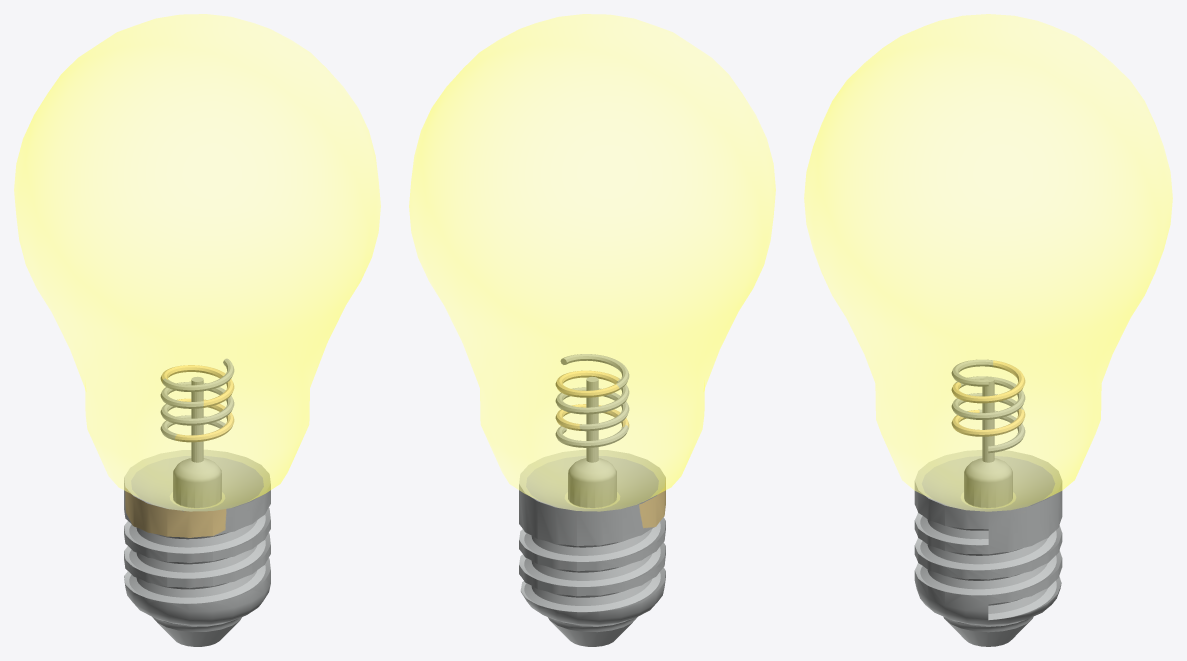
Rendered from a_simple_lightbulb.glb.
The picture shows the model from 3 angles, left to right: view 1: azimuth 30°, elevation 25°; view 2: azimuth 150°, elevation 25°; view 3: azimuth 270°, elevation 25°; orthographic projection.
Visible parts, largest first — view 1: Bulb, Base; view 2: Bulb, Base; view 3: Bulb, Base.
Boxes of the visible parts, <box> form: Bulb: <box>14,14,380,511</box>; Base: <box>124,358,270,646</box>; Bulb: <box>409,14,775,511</box>; Base: <box>519,354,665,646</box>; Bulb: <box>804,14,1172,511</box>; Base: <box>914,359,1062,646</box>.
Bounding box in the file's own units: 0.02 × 0.0362 × 0.02.
Materials: 2 (1 with a texture image).
